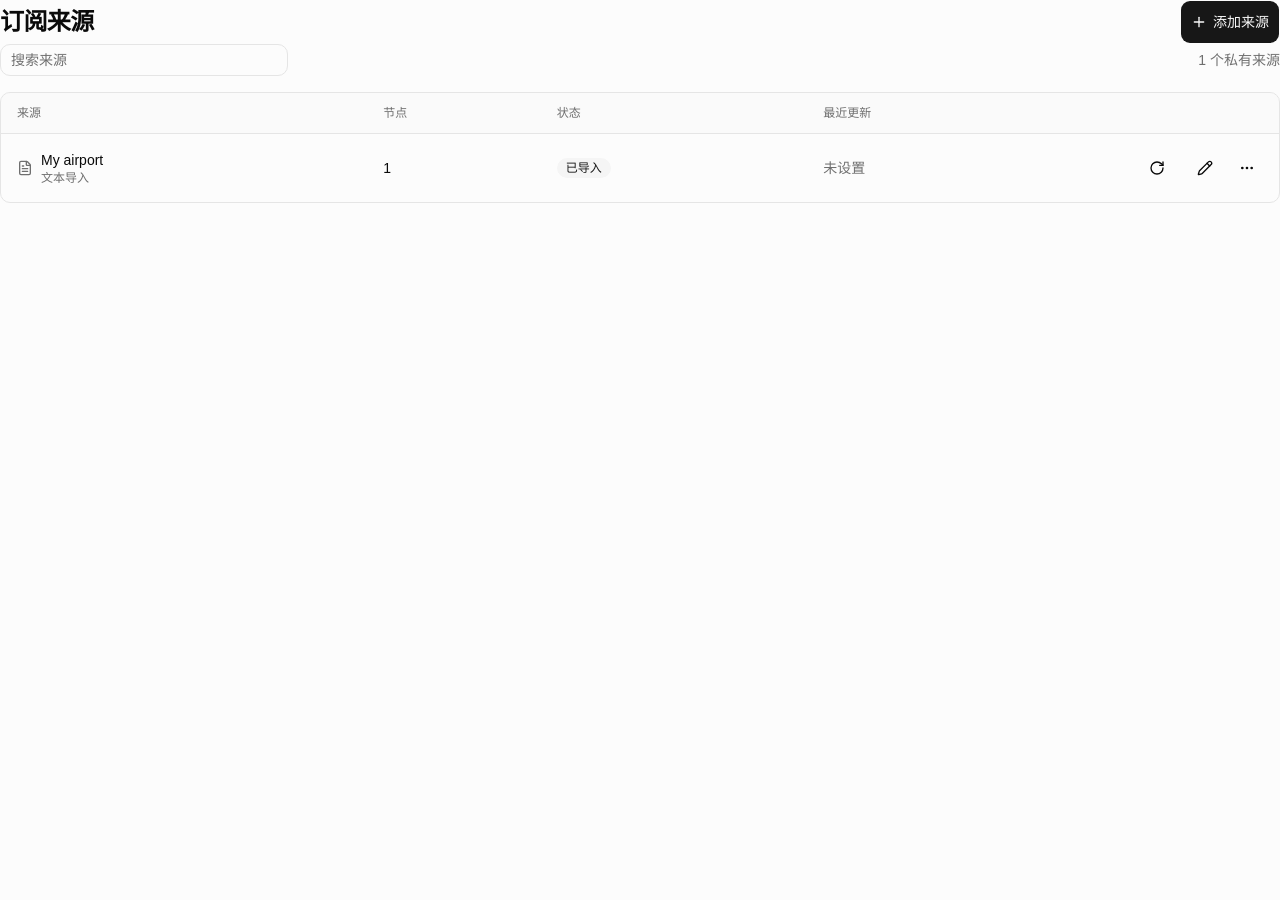
Test: shows persisted count-only application history on demand after a new mount
Click the button "My airport 文本导入" at [60, 168], box [17,150,103,186]
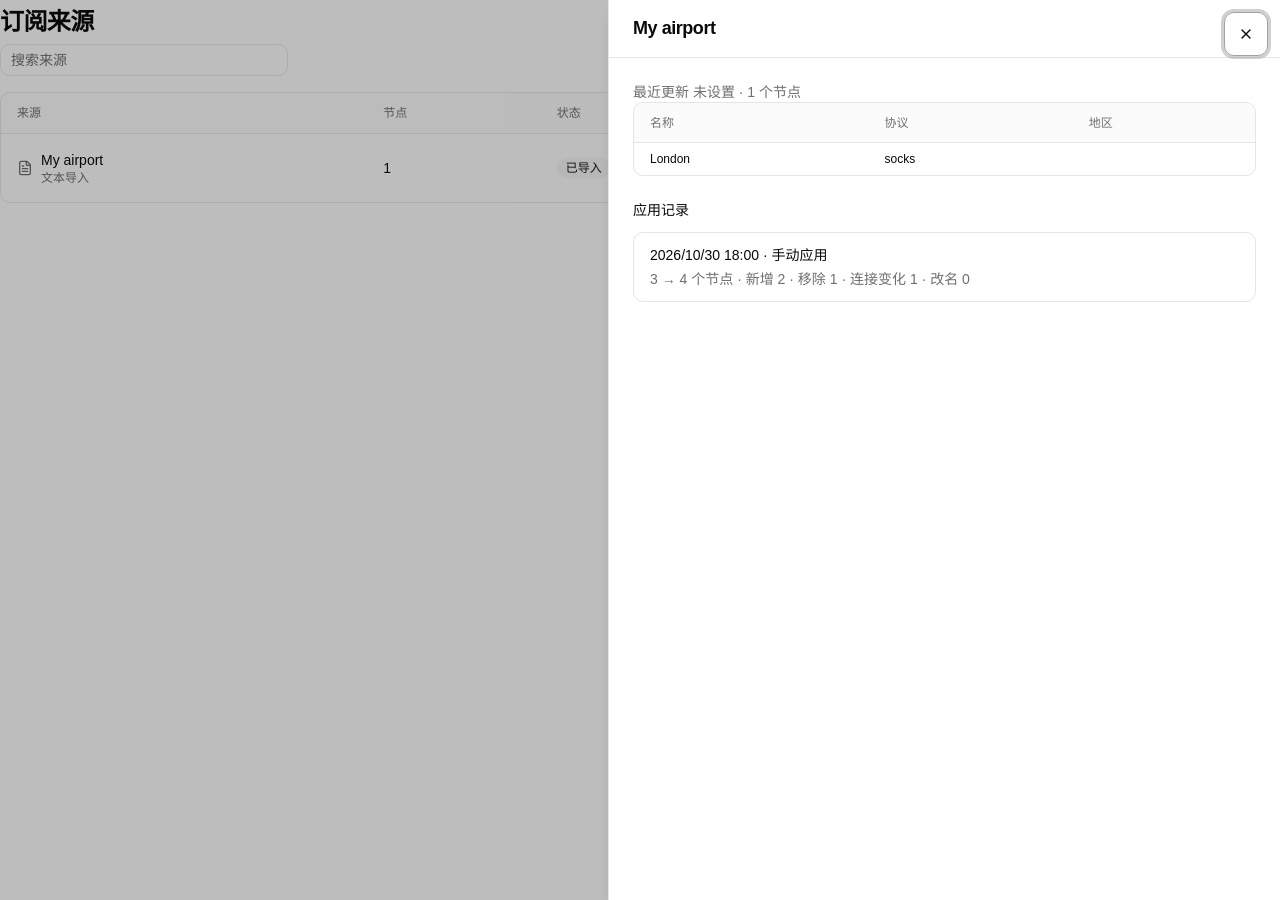
Expected: the heading "应用记录" is shown, [633,202,689,218]
Expected: the text "3 → 4 个节点 · 新增 2 · 移除 1 · 连接变化 1 · 改名 0" is shown, [650,271,970,287]
